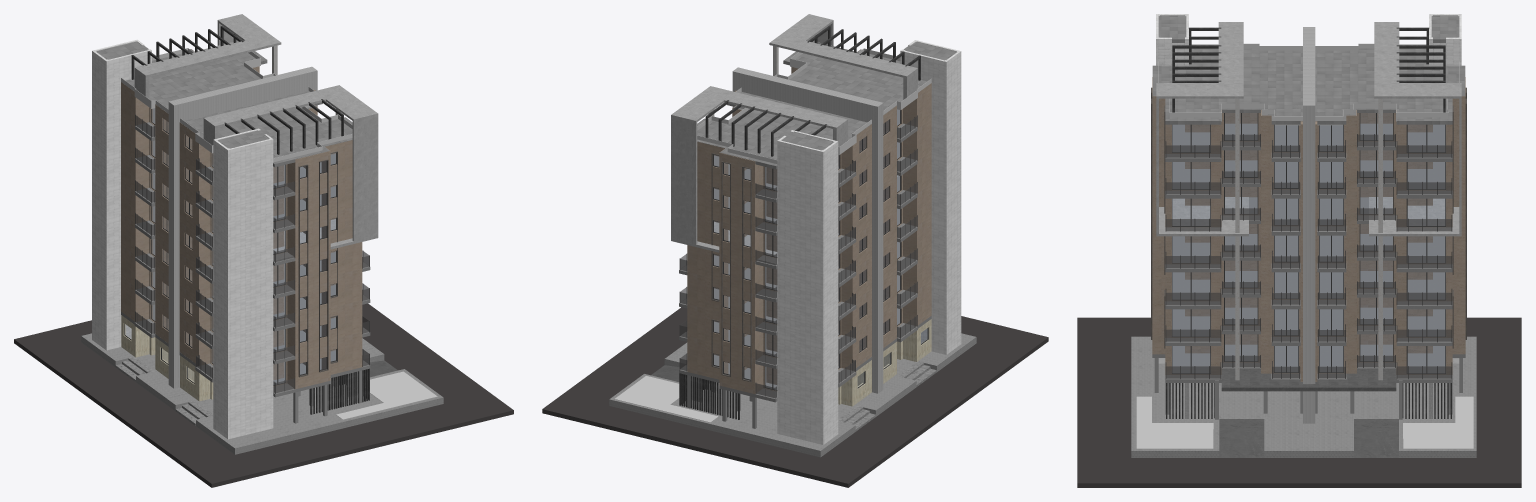
Rendered from tower_residential__modern_apartment_building_metalrough.glb.
3 renders of one model, left to right at view 1: azimuth 30°, elevation 25°; view 2: azimuth 150°, elevation 25°; view 3: azimuth 270°, elevation 25°, orthographic. The views are drawn at different scales.
Parts seen in each view (by area): view 1: Box362, Line091, Line001, Box359, Line185, Plane002, Line173, Line089, Line108, Line119, Line096, Line175 (+25 smaller); view 2: Box362, Line001, Line091, Box359, Line175, Plane001, Line089, Line173, Line018, Line030, Line006, Line185 (+25 smaller); view 3: Box362, Plane001, Plane002, Line089, Line173, Line185, Line175, Box359, Line118, Line029, Line129, Line041 (+54 smaller).
Boxes of the visible parts, box(x1,y1,x2,y2) form: Box362: box(14, 303, 513, 487); Line091: box(213, 128, 273, 439); Line001: box(92, 39, 151, 350); Box359: box(168, 66, 317, 388); Line185: box(203, 85, 378, 261); Plane002: box(166, 347, 443, 454); Line173: box(180, 90, 352, 167); Line089: box(126, 49, 267, 113); Line108: box(179, 286, 362, 356); Line119: box(179, 254, 362, 323); Line096: box(179, 319, 362, 389); Line175: box(134, 14, 281, 174); Box362: box(542, 307, 1048, 487); Line001: box(777, 130, 838, 444); Line091: box(900, 40, 961, 354); Box359: box(732, 67, 883, 393); Line175: box(671, 86, 847, 264); Plane001: box(609, 342, 906, 457); Line089: box(697, 91, 871, 169); Line173: box(783, 49, 926, 115); Line018: box(687, 290, 871, 360); Line030: box(687, 257, 871, 327); Line006: box(687, 323, 871, 393); Line185: box(769, 14, 917, 176); Box362: box(1077, 317, 1521, 487); Plane001: box(1285, 336, 1476, 457); Plane002: box(1131, 336, 1285, 457); Line089: box(1315, 48, 1465, 124); Line173: box(1152, 48, 1302, 124); Line185: box(1156, 22, 1248, 236); Line175: box(1369, 22, 1461, 236); Box359: box(1303, 27, 1315, 423); Line118: box(1165, 271, 1300, 309); Line029: box(1317, 271, 1452, 309); Line129: box(1165, 234, 1300, 272); Line041: box(1317, 234, 1452, 272).
Bounding box in the file's own units: 29.89 × 28.31 × 33.87.
23 materials, 15 textured.
